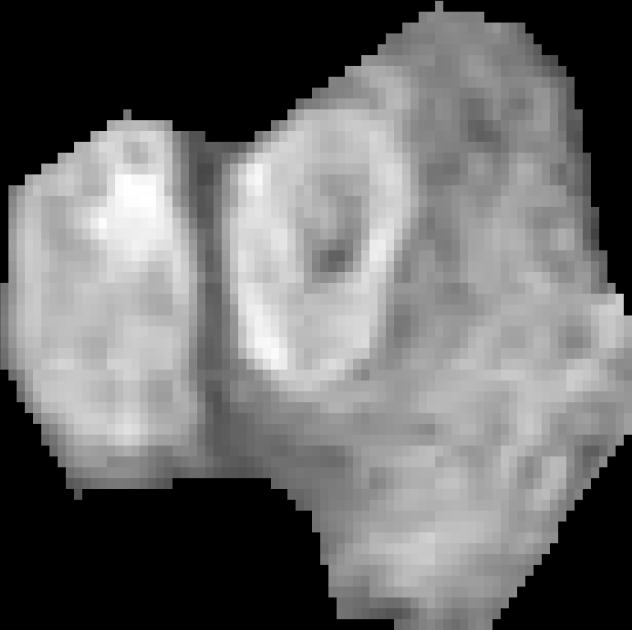tumor_good_chance: (0, 1, 632, 630)
